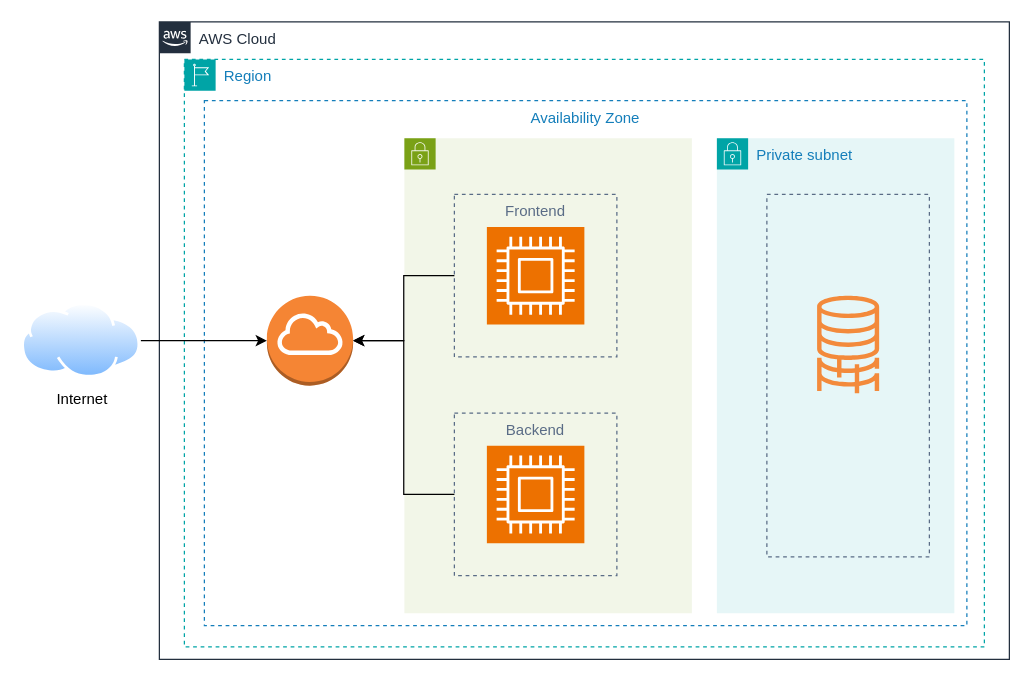
The diagram is 1031 pixels wide and 681 high, and some of its shapes have lost their labels. The shapes that lost their labels are listed below. From the top down, each one's box as (x1, y1, x2, y2) in pixels, then its label:
(266, 294, 353, 386): Internet Gateway
(403, 137, 692, 613): Public subnet
(766, 193, 929, 557): Database
